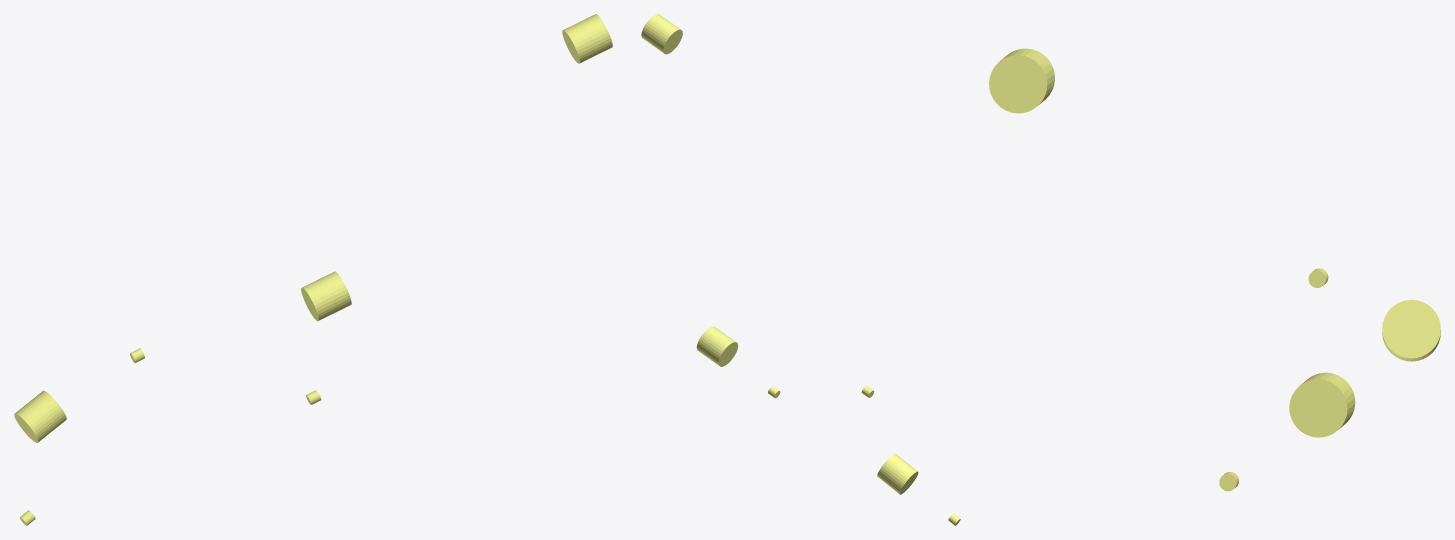
Rendered from star.glb.
The picture shows the model from 3 angles, left to right: view 1: azimuth 30°, elevation 25°; view 2: azimuth 150°, elevation 25°; view 3: azimuth 270°, elevation 25°; orthographic projection. The views are drawn at different scales.
Parts seen in each view (by area): view 1: Cylinder, Cylinder.001, Cylinder.002; view 2: Cylinder.001, Cylinder.002, Cylinder; view 3: Cylinder.001, Cylinder.002, Cylinder.
Part boxes in pixels (x1,y1,x2,y2): Cylinder: (14,390,66,442); Cylinder.001: (562,14,612,63); Cylinder.002: (301,271,351,321); Cylinder.001: (641,14,682,54); Cylinder.002: (696,326,738,366); Cylinder: (877,453,918,494); Cylinder.001: (989,48,1054,113); Cylinder.002: (1289,372,1355,437); Cylinder: (1382,299,1440,361).
Bounding box in the file's own units: 15.24 × 13.67 × 7.69.
